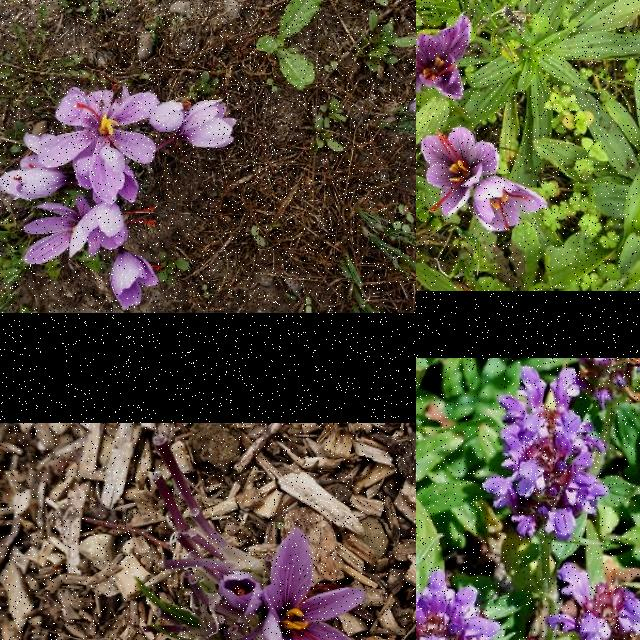flower: (263, 527, 375, 640), (422, 125, 501, 218), (68, 202, 156, 260), (416, 15, 471, 100), (472, 176, 548, 232), (111, 251, 163, 311), (181, 98, 237, 148), (218, 570, 262, 616), (408, 95, 416, 117)
overlap: (0, 85, 190, 265)
